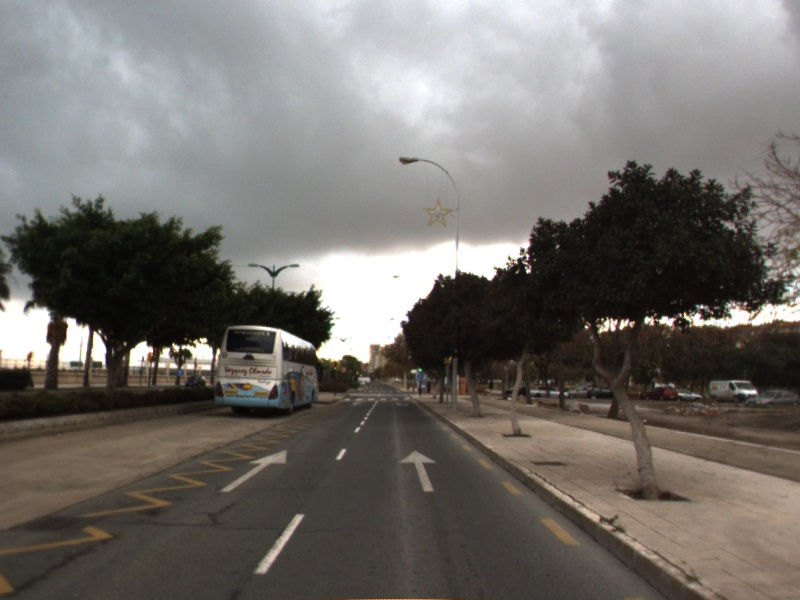STRAIGHT: (218, 447, 288, 494), (397, 448, 439, 494)
